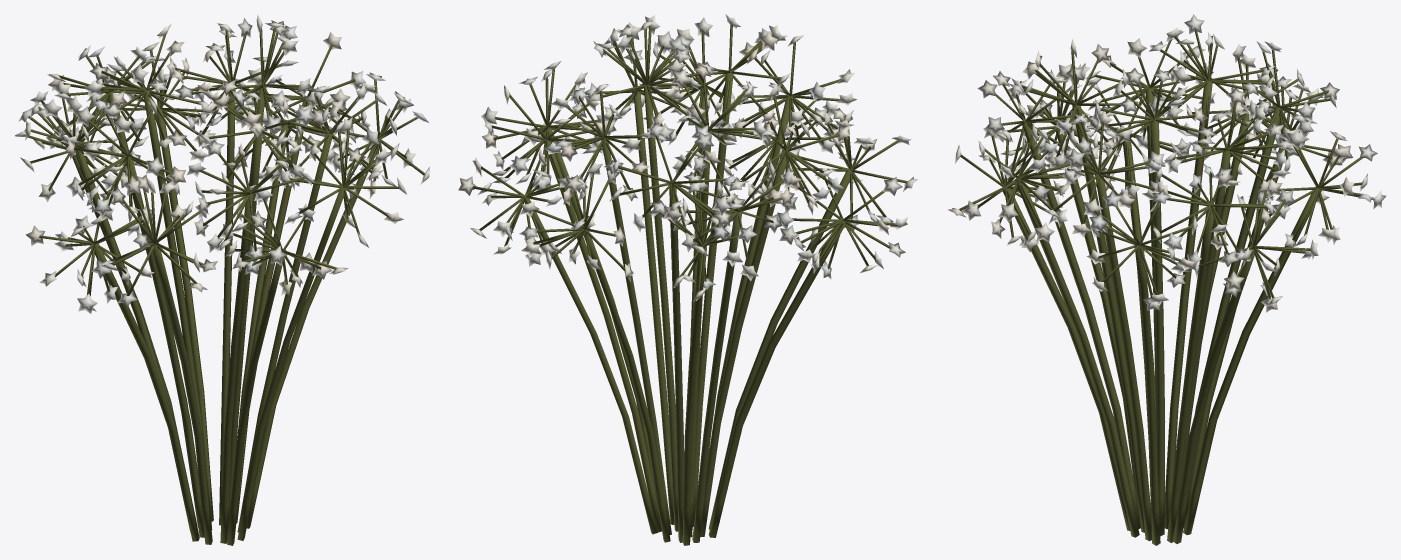
The model's file is bucket_gypsophila.glb.
3 renders of one model, left to right at view 1: azimuth 30°, elevation 25°; view 2: azimuth 150°, elevation 25°; view 3: azimuth 270°, elevation 25°, orthographic.
Parts seen in each view (by area): view 1: Sammel Putz, Sammel Pflanze; view 2: Sammel Putz, Sammel Pflanze; view 3: Sammel Putz, Sammel Pflanze.
Part boxes in pixels (bbox=[...]): Sammel Putz: bbox=[25, 28, 424, 545]; Sammel Pflanze: bbox=[15, 14, 429, 313]; Sammel Putz: bbox=[472, 24, 907, 545]; Sammel Pflanze: bbox=[458, 14, 918, 302]; Sammel Putz: bbox=[959, 29, 1373, 545]; Sammel Pflanze: bbox=[948, 14, 1385, 312].
Bounding box in the file's own units: 0.4541 × 0.5392 × 0.4387.
